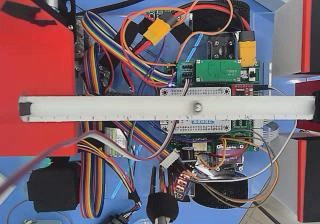ironball: (191, 100, 201, 112)
